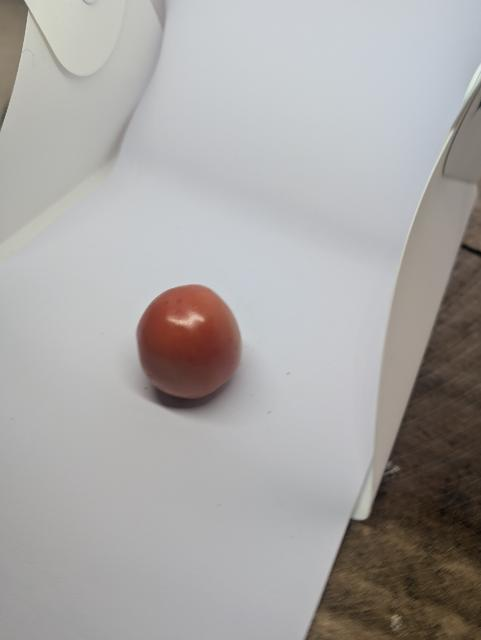red: (126, 282, 259, 415)
